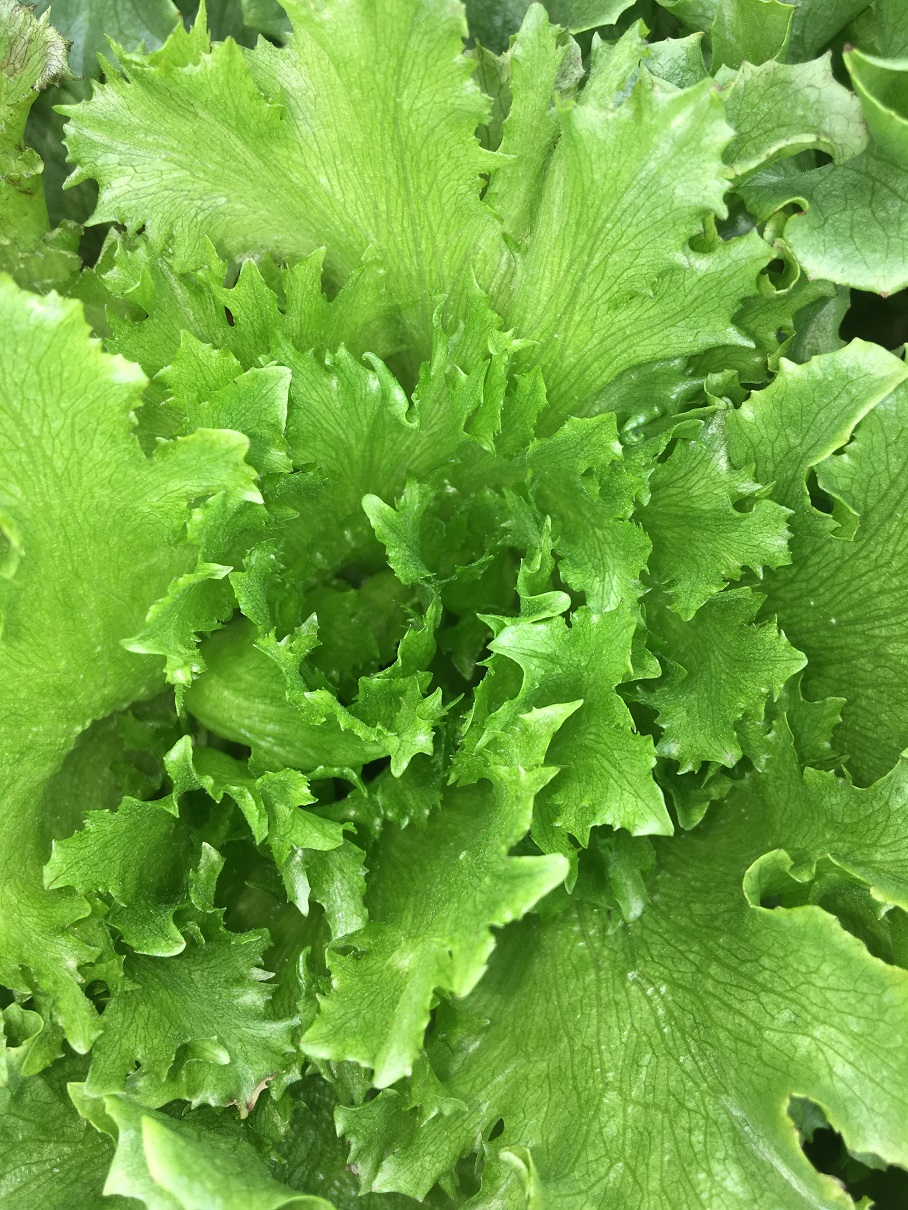tipburn: (1, 1, 85, 105), (540, 29, 596, 109), (215, 1058, 283, 1121), (630, 46, 683, 105), (458, 27, 506, 71), (759, 236, 807, 280), (703, 68, 748, 109), (333, 1148, 374, 1191), (1, 172, 41, 211), (782, 190, 821, 228), (59, 212, 98, 249), (865, 276, 904, 312), (829, 29, 865, 65), (6, 126, 41, 161), (836, 85, 870, 121)
